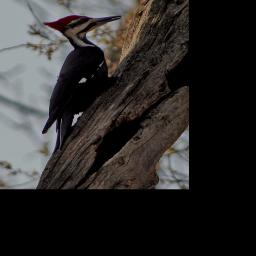Woodpecker: (40, 15, 125, 153)
